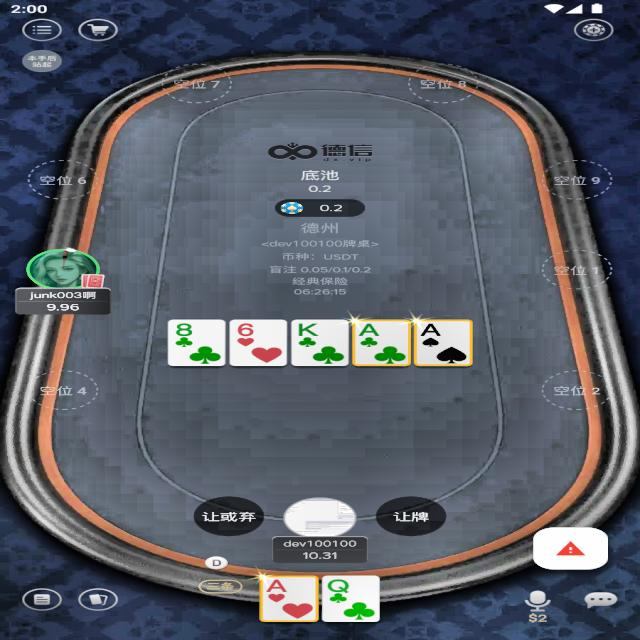6h: (234, 322, 258, 336)
8m: (173, 322, 197, 336)
Ah: (264, 578, 291, 594)
Am: (358, 320, 383, 338)
As: (418, 322, 442, 338)
Km: (296, 321, 320, 337)
Qm: (325, 578, 356, 594)
